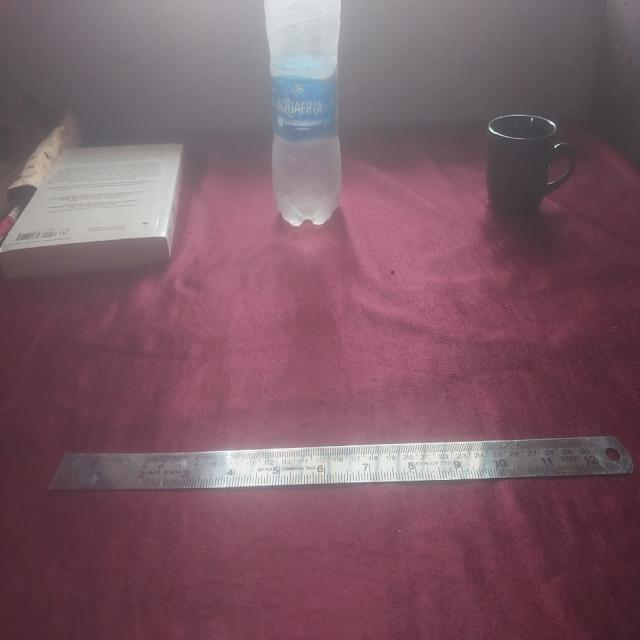Book: (3, 128, 180, 268)
Bottle: (266, 0, 349, 226)
Cup: (482, 113, 579, 219)
scale: (48, 432, 633, 501)
